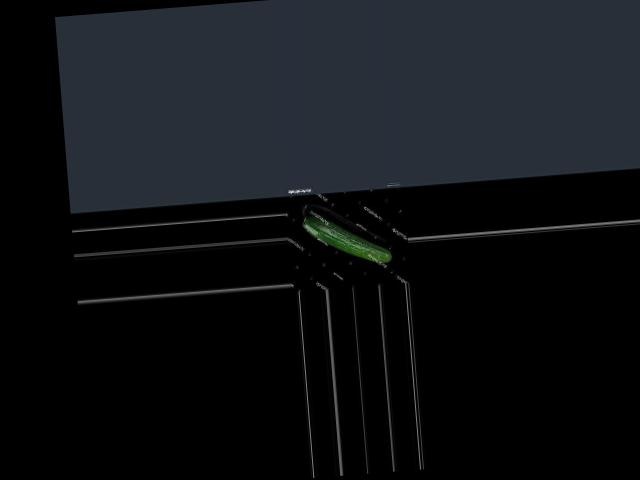cucumber: (302, 208, 393, 269)
